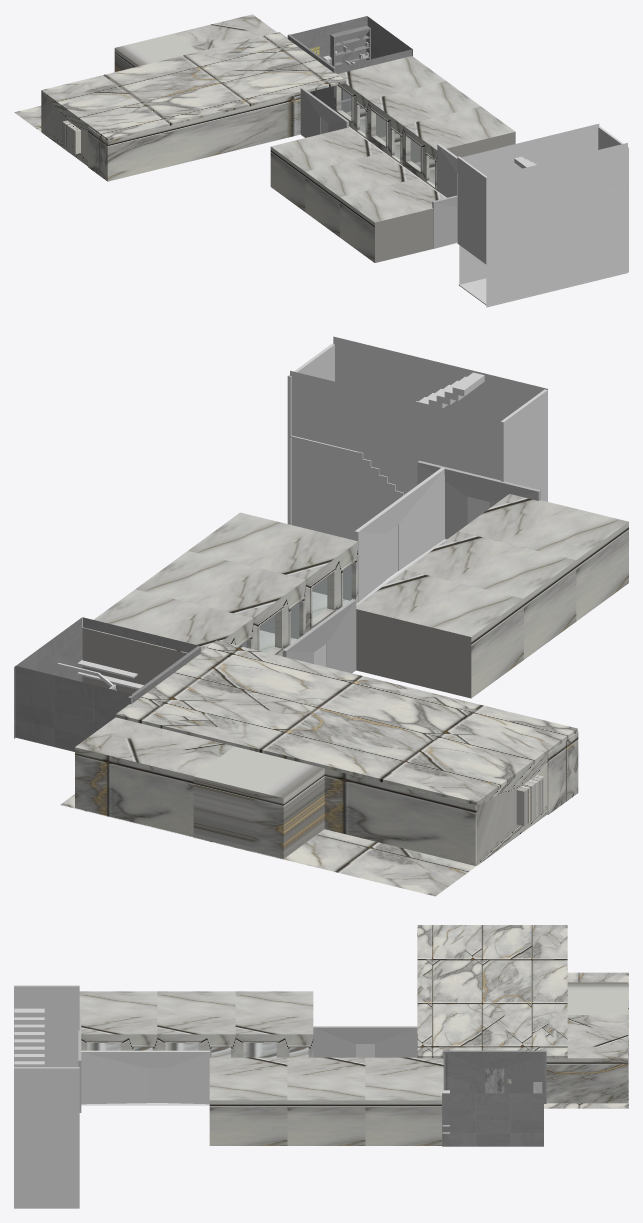
The model's file is 實驗室內部.fbx.
3 renders of one model, top to bottom at view 1: azimuth 30°, elevation 25°; view 2: azimuth 150°, elevation 25°; view 3: azimuth 270°, elevation 25°, orthographic. The views are drawn at different scales.
Visible parts, largest first — view 1: 平面, 平面.007, 立方體.029, 平面.006, 立方體.027, 立方體.022, 立方體.028, 平面.009, 平面.003, 立方體.025, 平面.002, 立方體.034 (+4 smaller); view 2: 平面, 平面.006, 平面.007, 平面.003, 立方體.025, 立方體.029, 平面.009, 立方體.028, 立方體.027, 平面.002, 立方體.032, 平面.004 (+1 smaller); view 3: 平面, 立方體.025, 立方體.034, 平面.002, 立方體.001, 立方體.029, 立方體.027, 立方體.032, 立方體.033, door.001, door.
Part boxes in pixels (left/top/right/bottom): 平面: left=14, top=14, right=515, bottom=262; 平面.007: left=486, top=143, right=627, bottom=307; 立方體.029: left=457, top=156, right=527, bottom=264; 平面.006: left=498, top=123, right=599, bottom=173; 立方體.027: left=300, top=87, right=348, bottom=137; 立方體.022: left=330, top=25, right=370, bottom=67; 立方體.028: left=432, top=195, right=457, bottom=248; 平面.009: left=461, top=143, right=519, bottom=176; 平面.003: left=290, top=16, right=367, bottom=57; 立方體.025: left=437, top=144, right=457, bottom=197; 平面.002: left=367, top=16, right=412, bottom=59; 立方體.034: left=459, top=186, right=628, bottom=306; 平面: left=60, top=494, right=628, bottom=896; 平面.006: left=290, top=371, right=443, bottom=540; 平面.007: left=333, top=336, right=547, bottom=422; 平面.003: left=15, top=666, right=131, bottom=751; 立方體.025: left=354, top=467, right=444, bottom=602; 立方體.029: left=500, top=389, right=547, bottom=501; 平面.009: left=411, top=405, right=500, bottom=480; 立方體.028: left=417, top=460, right=540, bottom=539; 立方體.027: left=282, top=599, right=356, bottom=673; 平面.002: left=14, top=617, right=82, bottom=738; 立方體.032: left=287, top=344, right=357, bottom=453; 平面.004: left=83, top=617, right=199, bottom=652; 平面: left=79, top=925, right=628, bottom=1145; 立方體.025: left=80, top=1050, right=209, bottom=1104; 立方體.034: left=14, top=1111, right=79, bottom=1208; 平面.002: left=442, top=1093, right=543, bottom=1146; 立方體.001: left=442, top=1050, right=546, bottom=1103; 立方體.029: left=14, top=985, right=79, bottom=1067; 立方體.027: left=313, top=1026, right=417, bottom=1057; 立方體.032: left=14, top=1067, right=79, bottom=1113; 立方體.033: left=14, top=1008, right=44, bottom=1067; door.001: left=148, top=1068, right=167, bottom=1102; door: left=485, top=1068, right=504, bottom=1093.
Size of the model in its own units: 29169 by 10478 by 39805.
